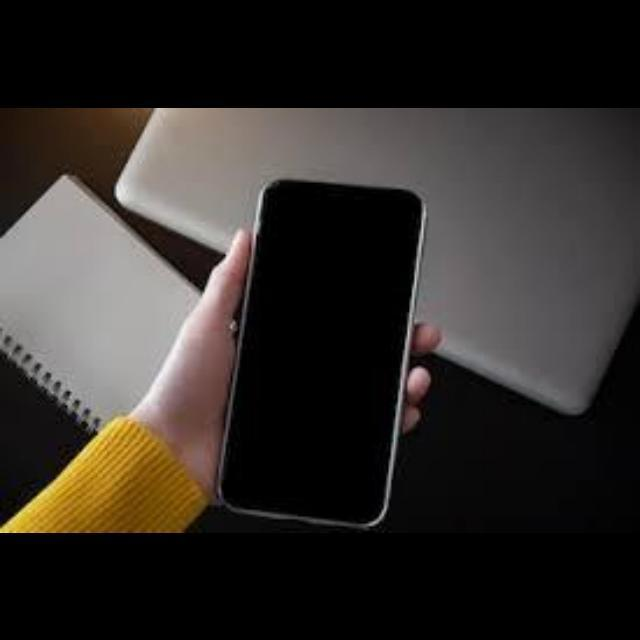PhoneUse: (198, 171, 436, 531)
